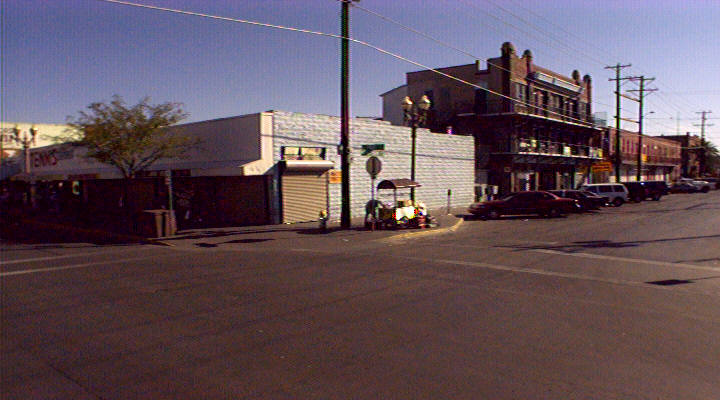Ramp: (161, 222, 388, 254)
